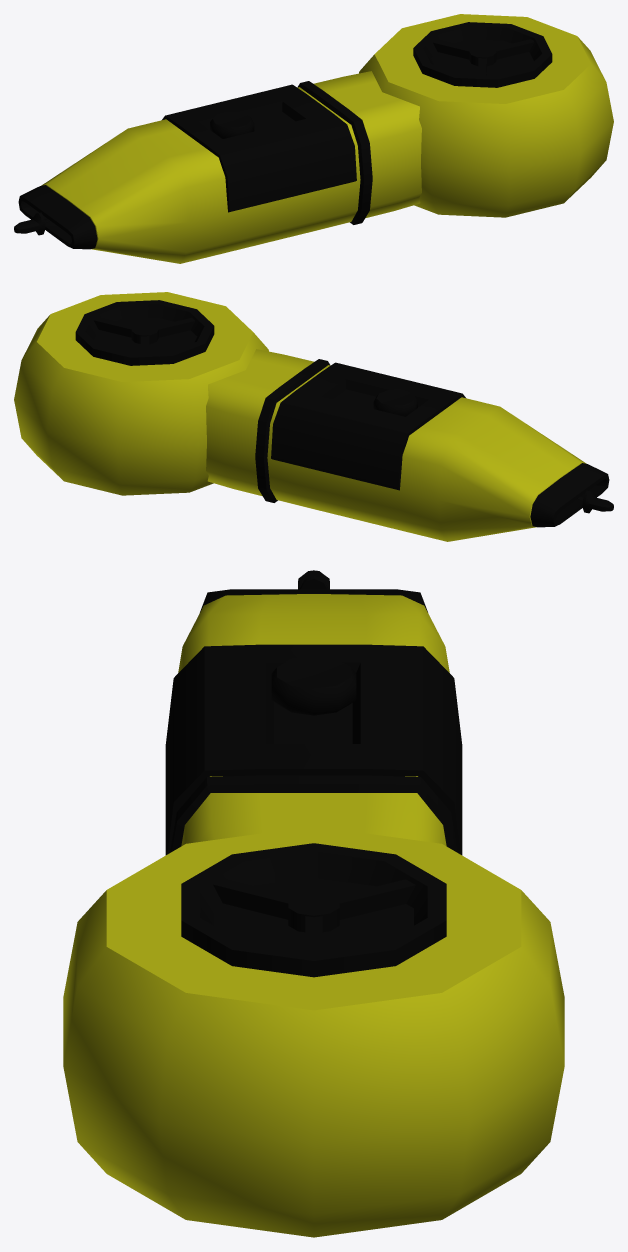
3 renders of one model, top to bottom at view 1: azimuth 30°, elevation 25°; view 2: azimuth 150°, elevation 25°; view 3: azimuth 270°, elevation 25°, orthographic. The views are drawn at different scales.
Visible parts, largest first — view 1: JJ_modou; view 2: JJ_modou; view 3: JJ_modou.
Part boxes in pixels (<box>): JJ_modou: <box>14,14,613,263</box>; JJ_modou: <box>14,292,613,541</box>; JJ_modou: <box>63,570,564,1237</box>.
Size of the model in its own units: 16.13 by 3.51 by 6.02.
